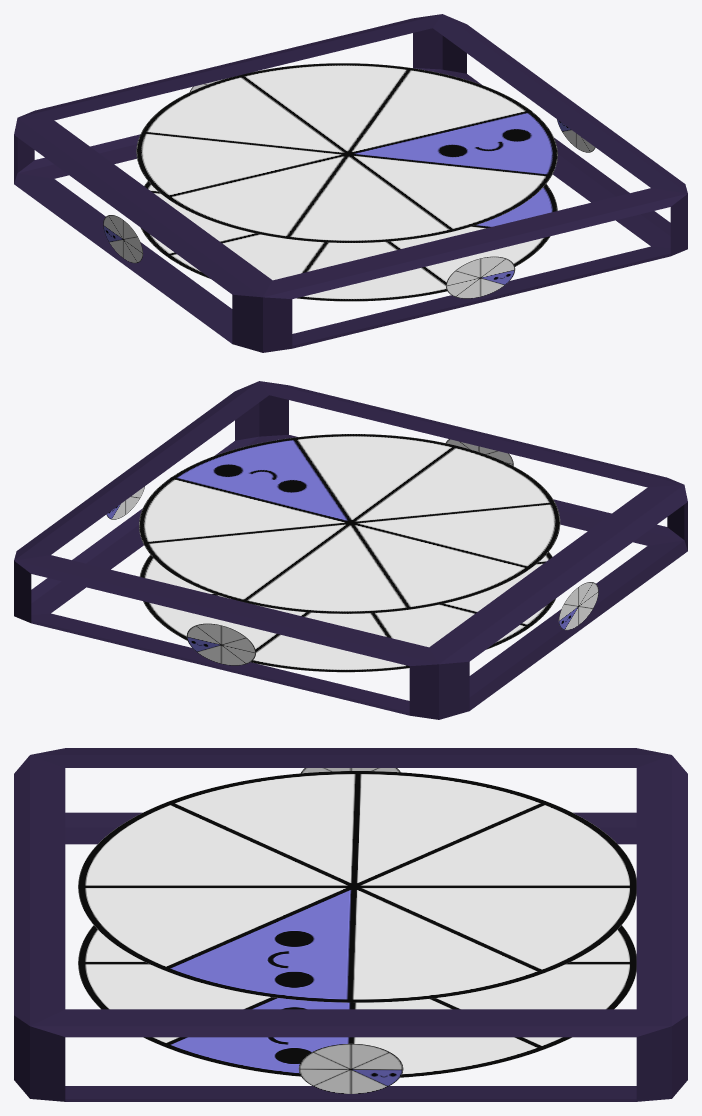
The model's file is Fracciones un octavo.fbx.
The picture shows the model from 3 angles, top to bottom: view 1: azimuth 30°, elevation 25°; view 2: azimuth 150°, elevation 25°; view 3: azimuth 270°, elevation 25°; orthographic projection. The views are drawn at different scales.
Visible parts, largest first — view 1: 1/8; view 2: 1/8; view 3: 1/8.
Part boxes in pixels (x1=…): 1/8: x1=14, y1=14, x2=687, y2=352; 1/8: x1=14, y1=381, x2=687, y2=719; 1/8: x1=14, y1=748, x2=687, y2=1101.
Bounding box in the file's own units: 213 × 26.25 × 210.
2 materials, 1 textured.
